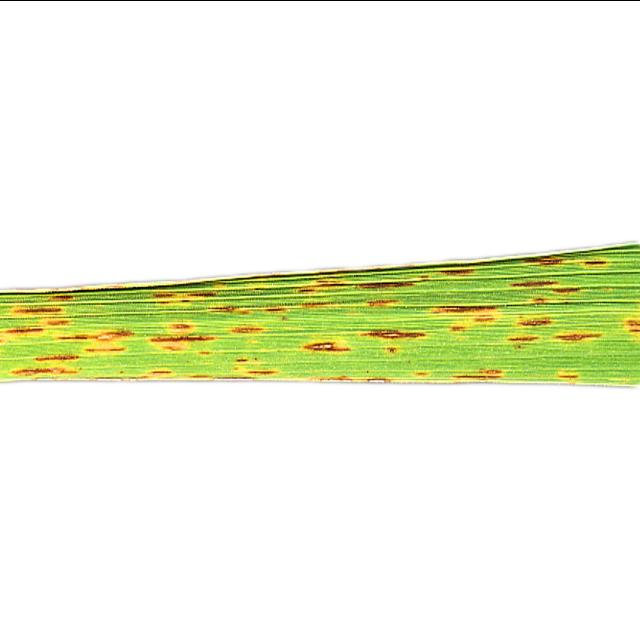Narrow brown: (0, 222, 640, 456)
